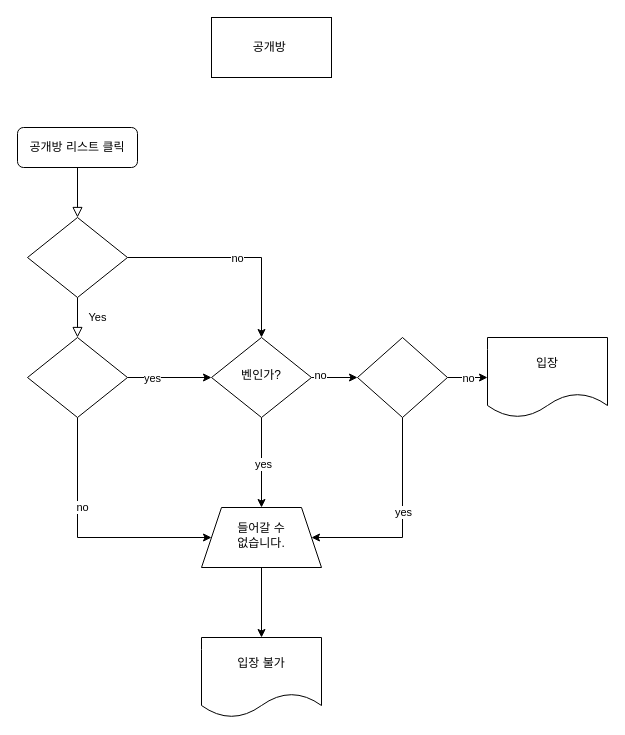
Image size: 625x735. Some labels were removed from this diagram. The shapes that lost their labels are listed below. From the top down, each one's box as (x1, y1, x2, y2) in pixels, then its label:
(26, 216, 128, 298): 비밀번호?
(26, 336, 128, 418): 입력이 정확한가?
(356, 336, 448, 418): 인원이 꽉 찼는가?
